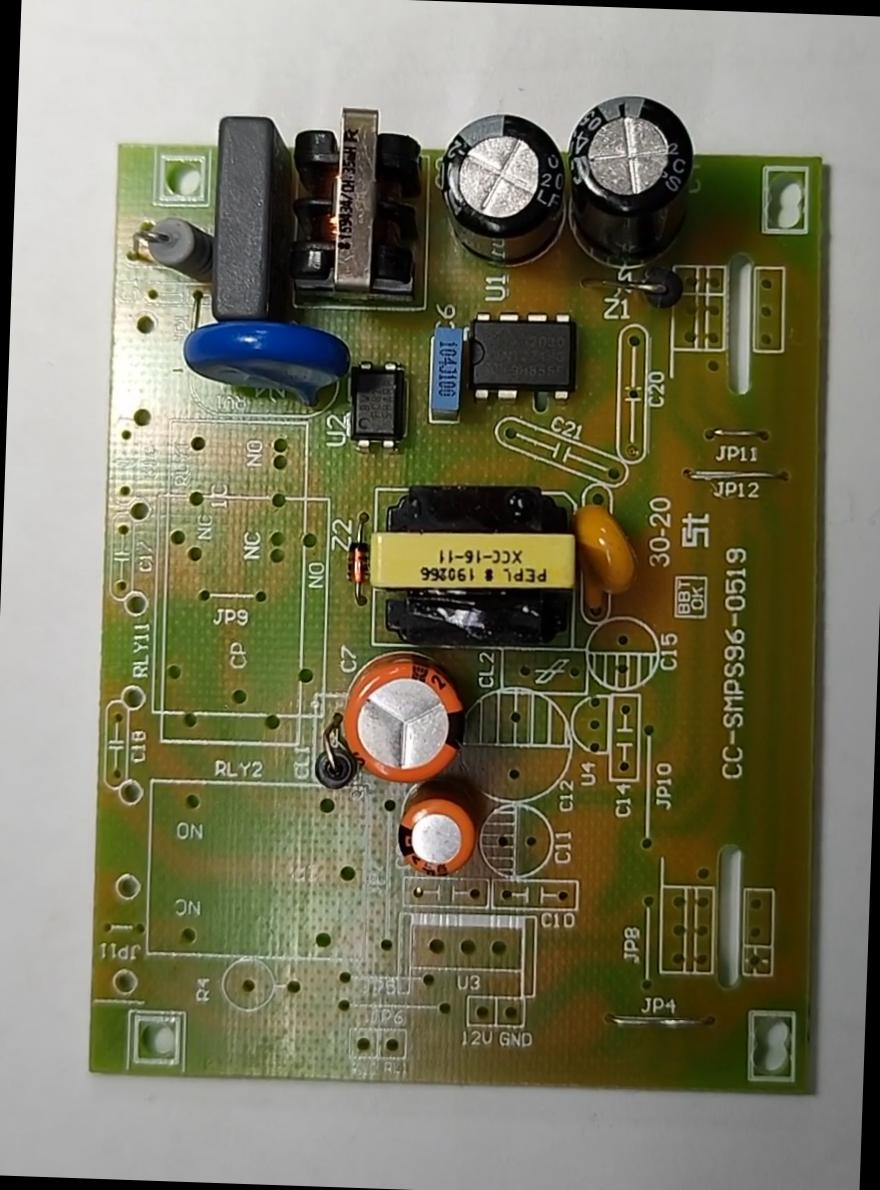Cap1: (324, 643, 477, 791)
Cap2: (390, 775, 492, 888)
Cap3: (425, 104, 584, 280)
Cap4: (548, 82, 710, 294)
MOSFET: (452, 302, 589, 410)
Mov: (170, 308, 364, 420)
Resistor: (130, 204, 225, 291)
Transformer: (358, 475, 589, 654), (278, 96, 431, 307)
